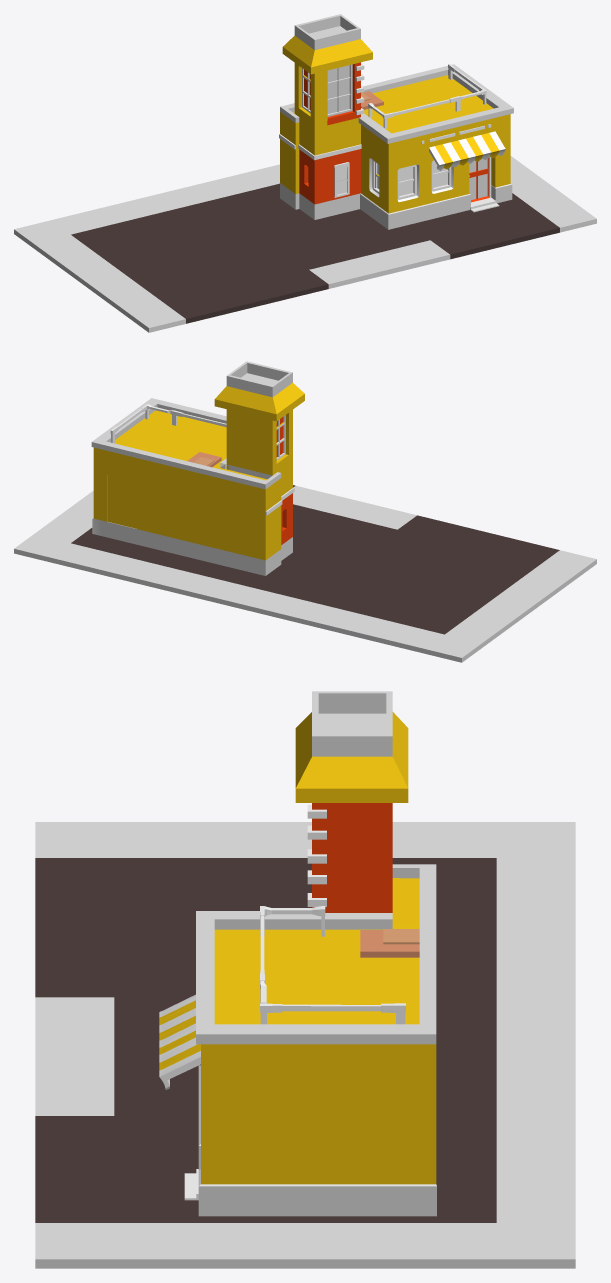
The model's file is Catering_Building_2.fbx.
3 views of the same model, one above another, from view 1: azimuth 30°, elevation 25°; view 2: azimuth 150°, elevation 25°; view 3: azimuth 270°, elevation 25° (orthographic). The views are drawn at different scales.
Visible parts, largest first — view 1: Plan.001, Building_9, Cop, pCube61.001, pCube62; view 2: Plan.001, Building_9; view 3: Plan.001, Building_9, Cop, pCube61, pCube61.001.
Part boxes in pixels (x1,y1,x2,y2): Plan.001: (14,156,596,332); Building_9: (279,14,513,229); Cop: (429,131,505,170); pCube61.001: (368,96,460,128); pCube62: (334,162,349,197); Plan.001: (14,485,596,662); Building_9: (91,361,304,575); Plan.001: (35,822,575,1268); Building_9: (196,691,436,1216); Cop: (159,994,200,1089); pCube61: (260,981,405,1024); pCube61.001: (260,906,325,1002).
Bounding box in the file's own units: 1304 × 514 × 681.
